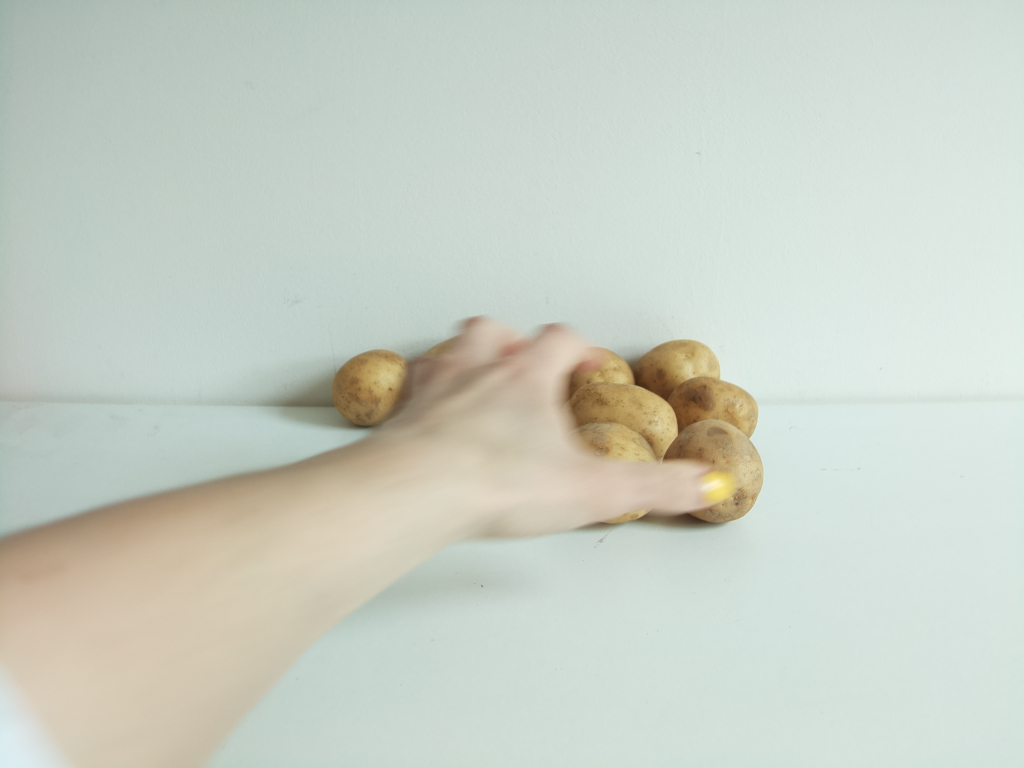potatoes: (568, 340, 766, 528), (336, 349, 405, 424)
